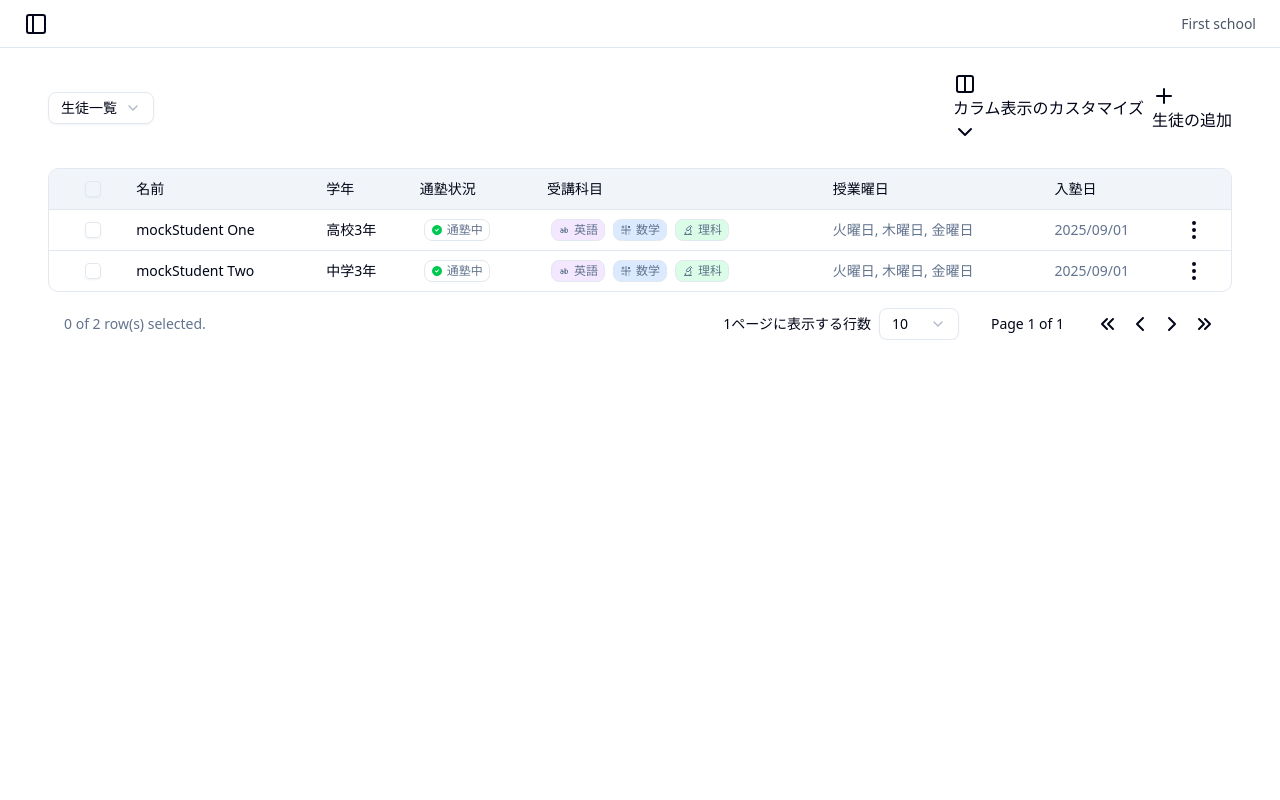
Test case: Student Index Page › should display a list of students
Expected: the link "mockStudent One" is shown, x1=136 y1=220 x2=255 y2=238
Expected: the link "mockStudent Two" is shown, x1=136 y1=260 x2=254 y2=280
Click the dropdown named "表示切替": (101, 108) x1=48 y1=92 x2=154 y2=124
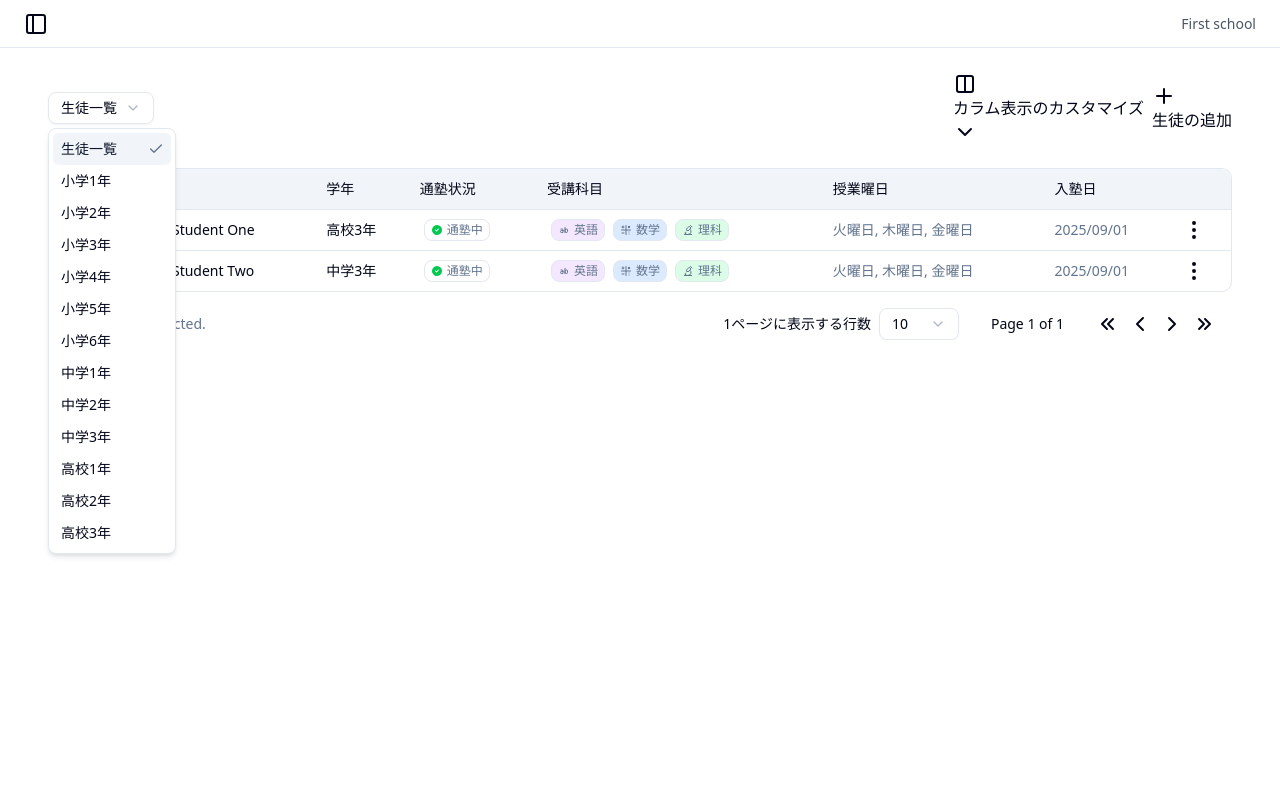
Click the option "高校3年": (86, 532) x1=61 y1=523 x2=111 y2=542
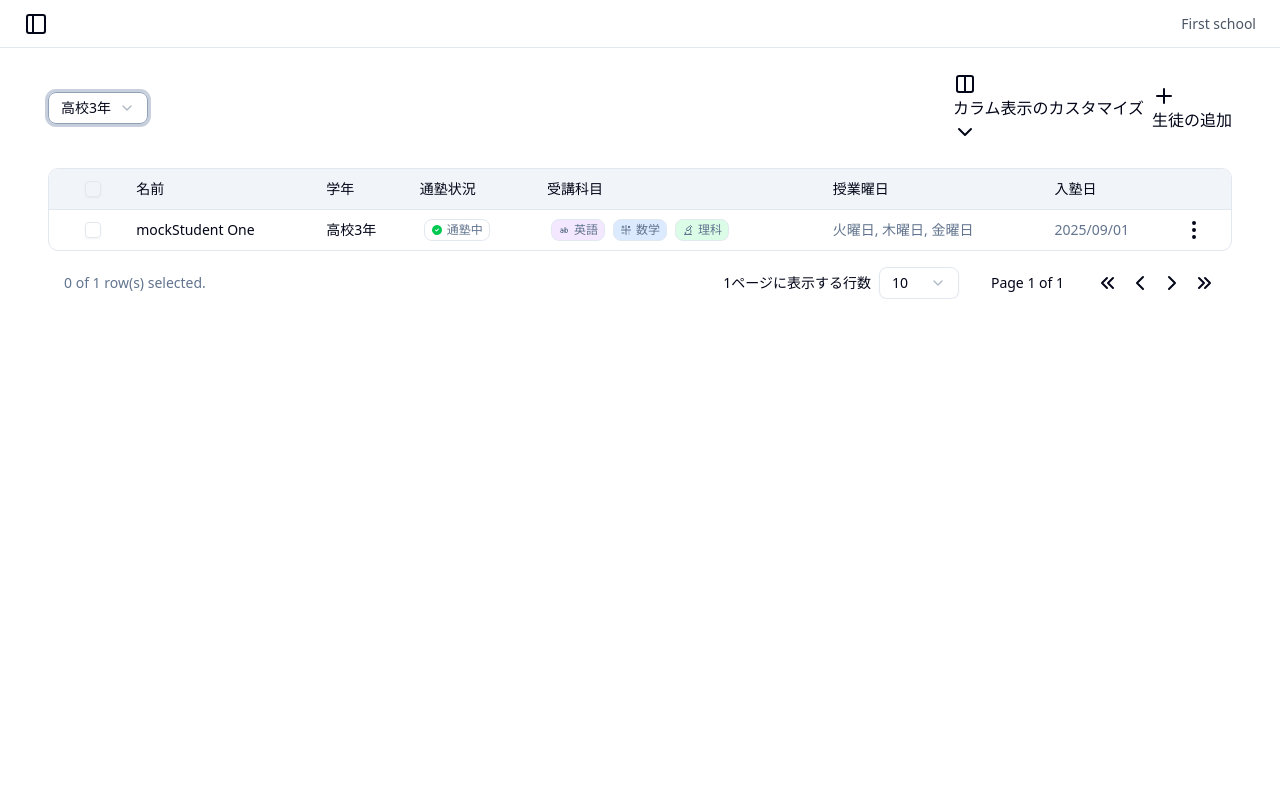
Expected: the link "mockStudent One" is shown, x1=136 y1=220 x2=255 y2=238
Expected: the link "mockStudent Two" is gone
